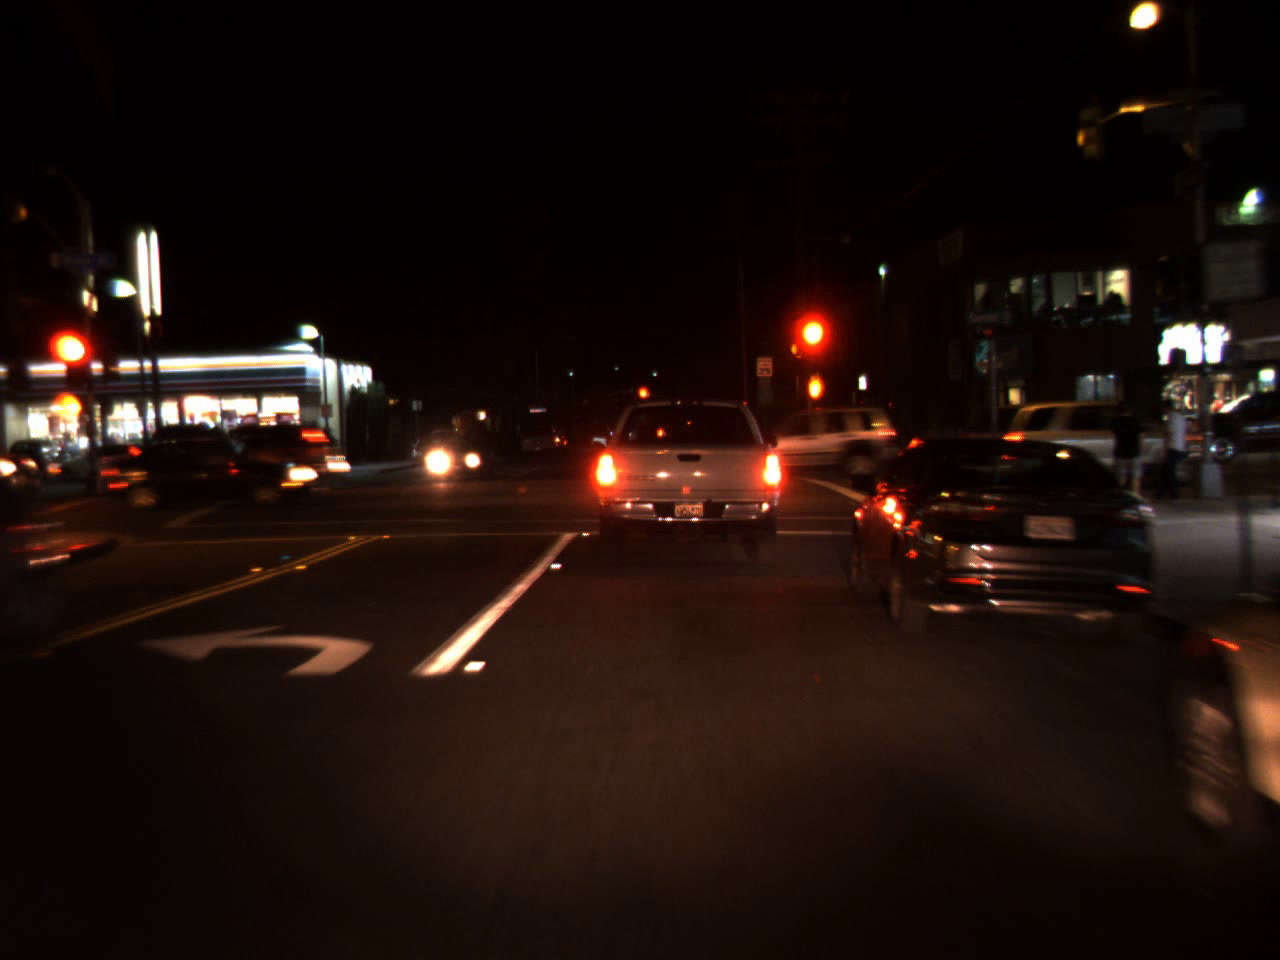stop: (51, 329, 94, 399), (794, 317, 825, 376), (636, 385, 649, 412)
